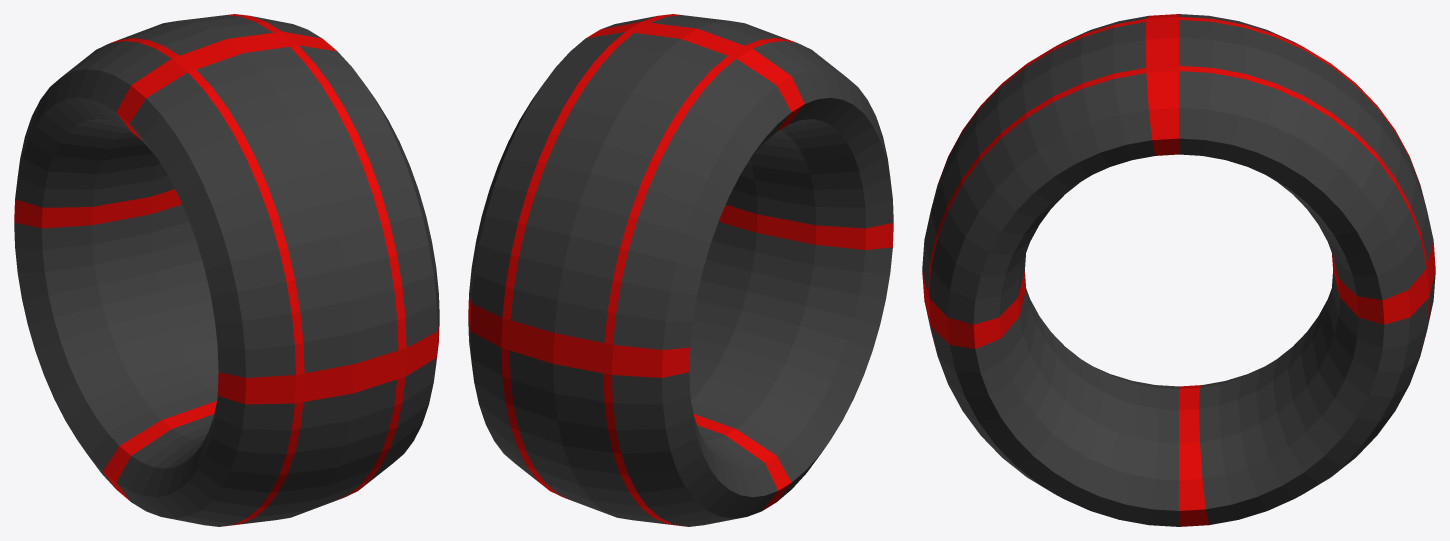
File: Wheel.fbx
The picture shows the model from 3 angles, left to right: view 1: azimuth 30°, elevation 25°; view 2: azimuth 150°, elevation 25°; view 3: azimuth 270°, elevation 25°; orthographic projection.
Parts seen in each view (by area): view 1: Torus; view 2: Torus; view 3: Torus.
Part boxes in pixels (x1=…): Torus: x1=14, y1=14, x2=439, y2=526; Torus: x1=468, y1=14, x2=893, y2=526; Torus: x1=922, y1=14, x2=1435, y2=526.
Bounding box in the file's own units: 125 × 250 × 250.
